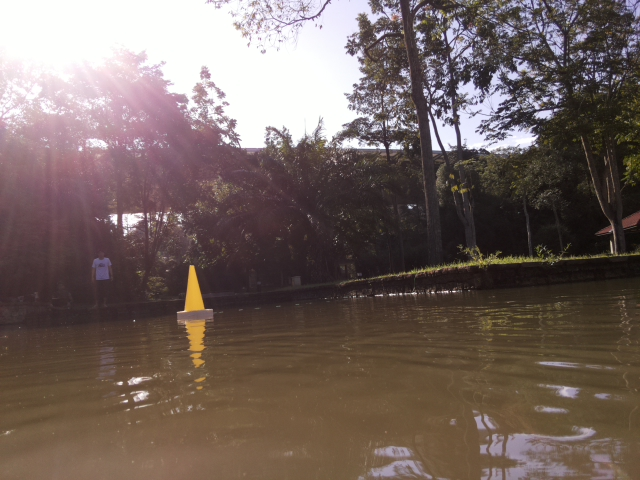checkpoint: (176, 264, 214, 322)
